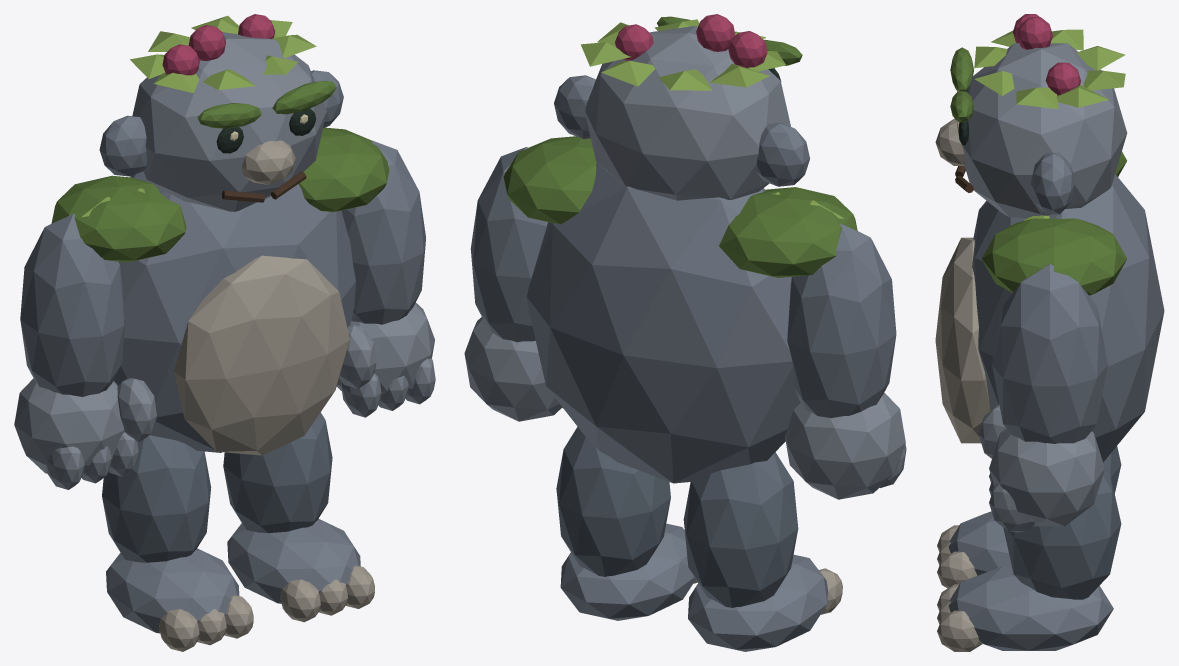
Rendered from berry-giant.glb.
The picture shows the model from 3 angles, left to right: view 1: azimuth 30°, elevation 25°; view 2: azimuth 150°, elevation 25°; view 3: azimuth 270°, elevation 25°; orthographic projection. The views are drawn at different scales.
Visible parts, largest first — view 1: GiantBody, GiantHead, GiantArmR, GiantLegR, GiantLegL, GiantArmL; view 2: GiantBody, GiantHead, GiantArmR, GiantLegR, GiantLegL, GiantArmL; view 3: GiantBody, GiantHead, GiantArmL, GiantLegL, GiantLegR.
Boxes of the visible parts, x1,y1,x2,y2 form: GiantBody: (51,127,389,455); GiantHead: (99,14,343,211); GiantArmR: (14,214,156,489); GiantLegR: (102,435,253,651); GiantLegL: (223,412,374,622); GiantArmL: (336,141,435,417); GiantBody: (503,136,857,483); GiantHead: (554,14,809,200); GiantArmR: (785,223,906,499); GiantLegR: (683,452,842,651); GiantLegL: (556,427,697,620); GiantArmL: (464,147,563,421); GiantBody: (935,152,1164,462); GiantHead: (935,14,1127,218); GiantArmL: (978,264,1107,532); GiantLegL: (937,468,1121,651); GiantLegR: (937,446,1121,588).
Size of the model in its own units: 3.12 by 4.35 by 1.54.
